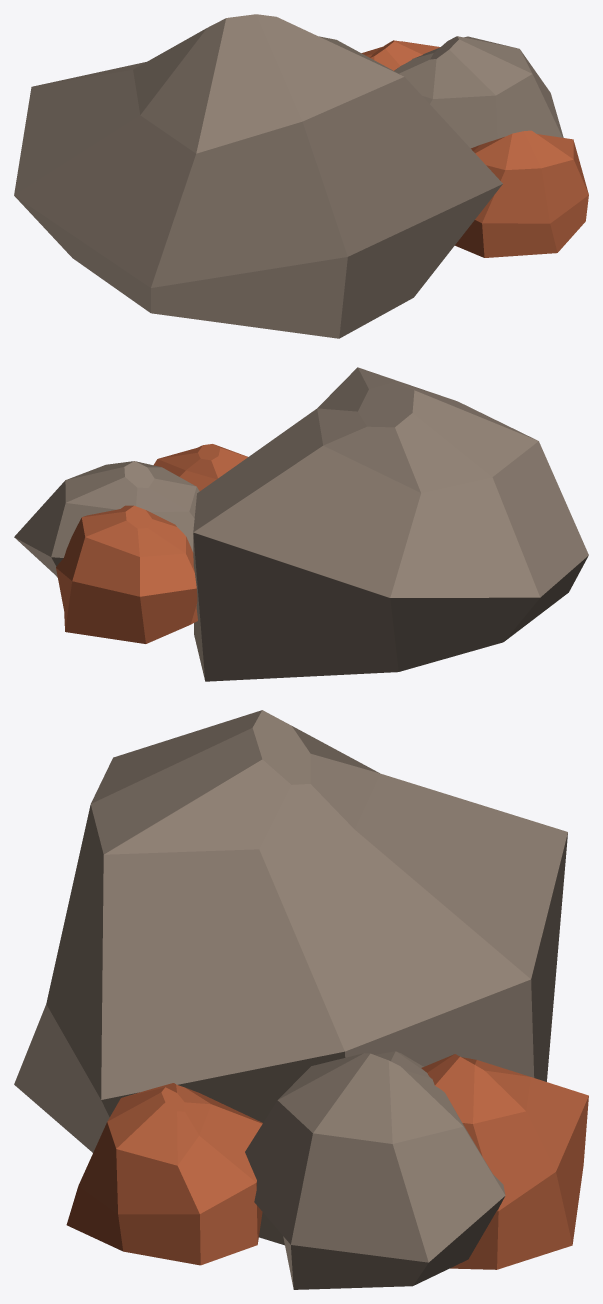
Rendered from SM_RockCluster_B.fbx.
3 renders of one model, top to bottom at view 1: azimuth 30°, elevation 25°; view 2: azimuth 150°, elevation 25°; view 3: azimuth 270°, elevation 25°, orthographic. The views are drawn at different scales.
Visible parts, largest first — view 1: RockCluster_B; view 2: RockCluster_B; view 3: RockCluster_B.
Part boxes in pixels (x1,y1,x2,y2): RockCluster_B: (14,14,588,338); RockCluster_B: (14,367,588,681); RockCluster_B: (14,710,588,1289).
Bounding box in the file's own units: 764 × 492 × 391.
